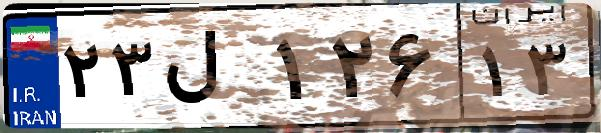1: (270, 28, 330, 110), (475, 38, 525, 113)
2: (330, 28, 385, 110), (57, 26, 110, 100)
3: (525, 38, 570, 115), (110, 28, 158, 98)
6: (385, 28, 445, 110)
ل: (158, 20, 270, 120)
